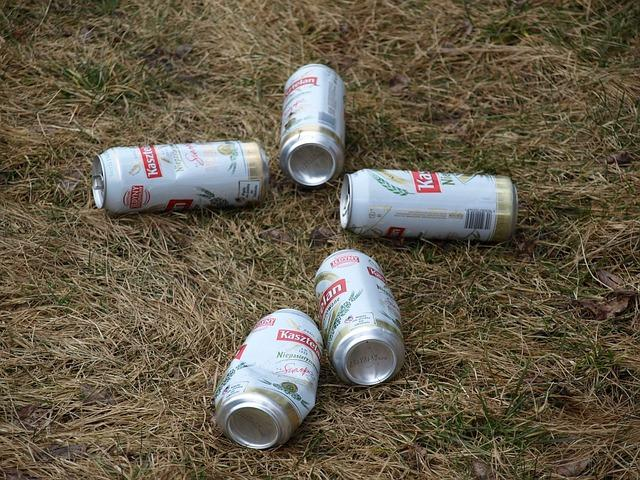lata: (193, 294, 354, 466), (311, 244, 408, 391), (338, 168, 518, 243), (90, 141, 268, 214), (277, 62, 349, 188)
